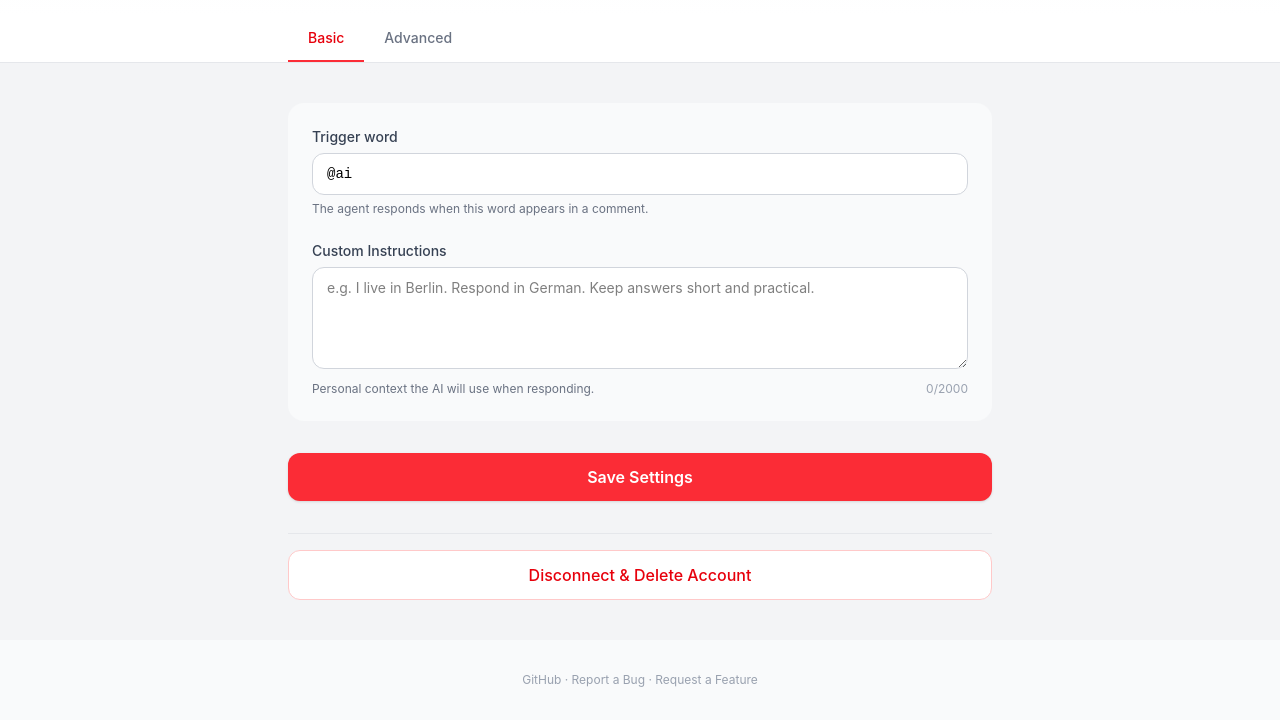
Test case: Settings: delete account modal › closes modal on Cancel
(page scrolled)
Click the button "Disconnect & Delete Account": (640, 575) left=288, top=550, right=992, bottom=600
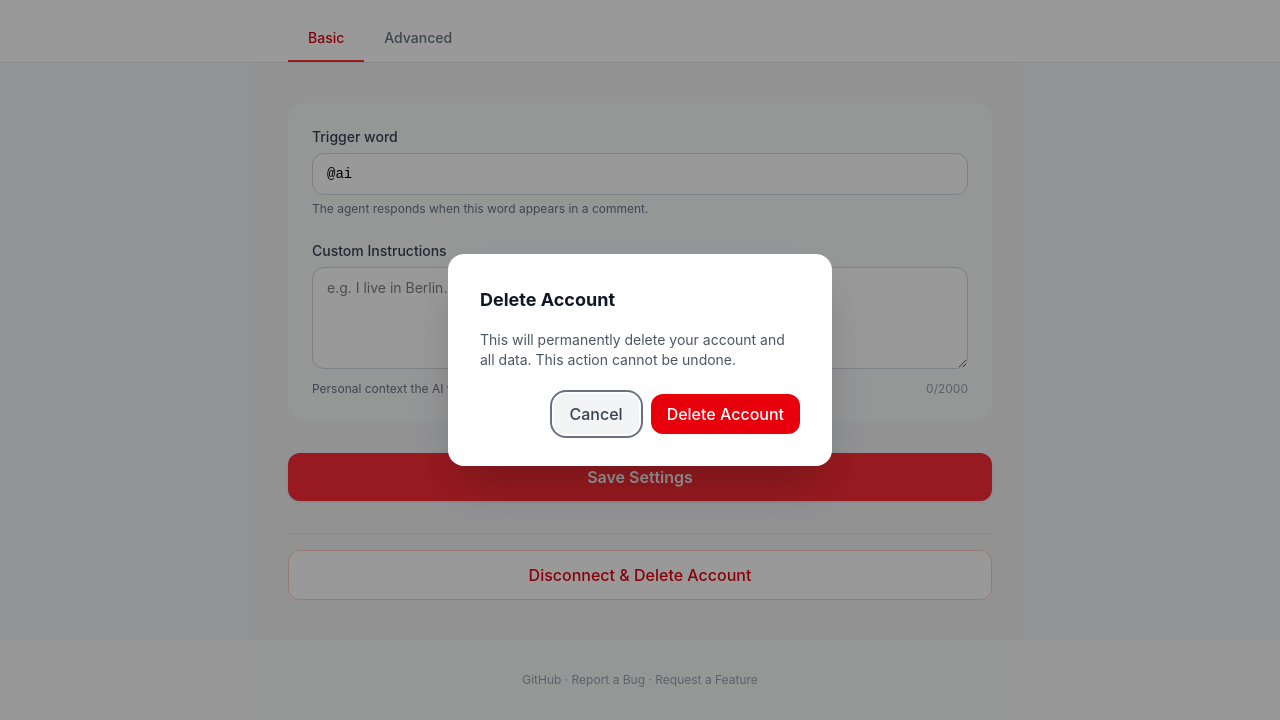
Check: the dialog is shown
Click the button "Cancel": (596, 414) left=554, top=394, right=639, bottom=434
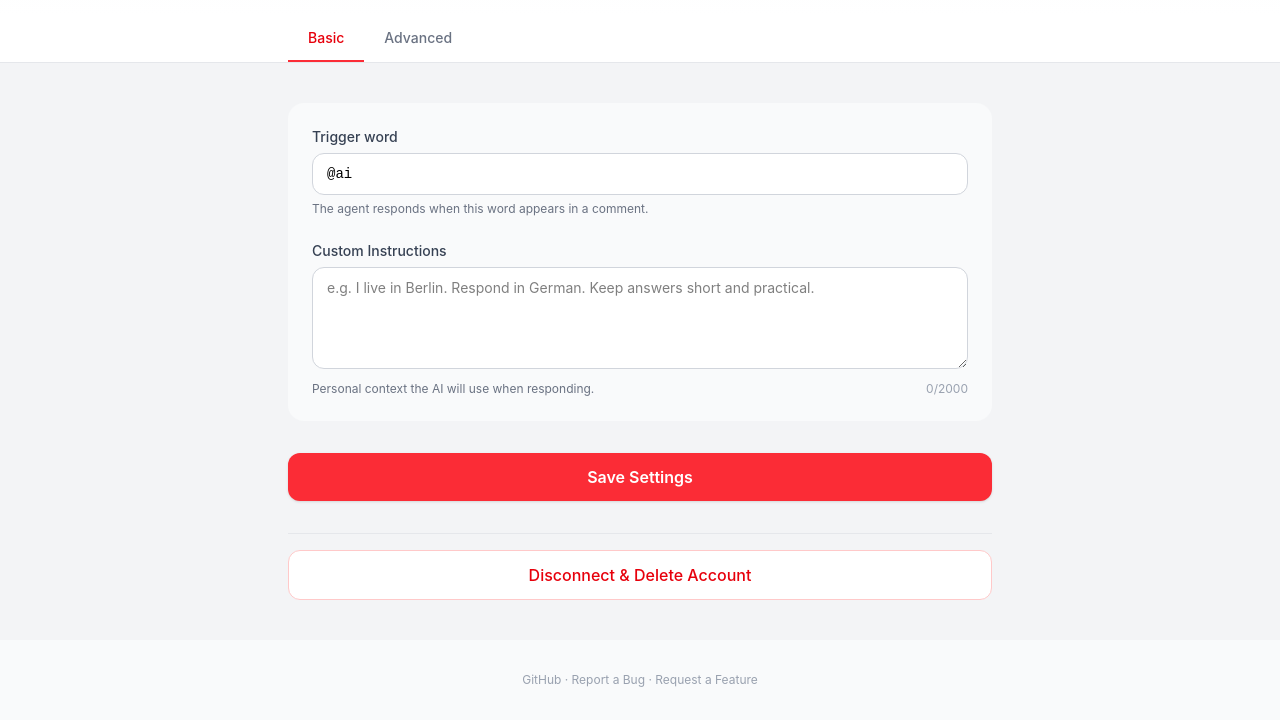
Check: the dialog is gone
